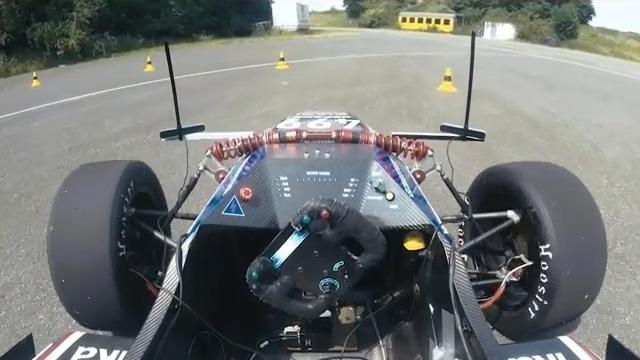yellow_cone: (439, 65, 462, 101), (271, 46, 291, 74), (139, 54, 160, 73), (29, 71, 43, 89)
